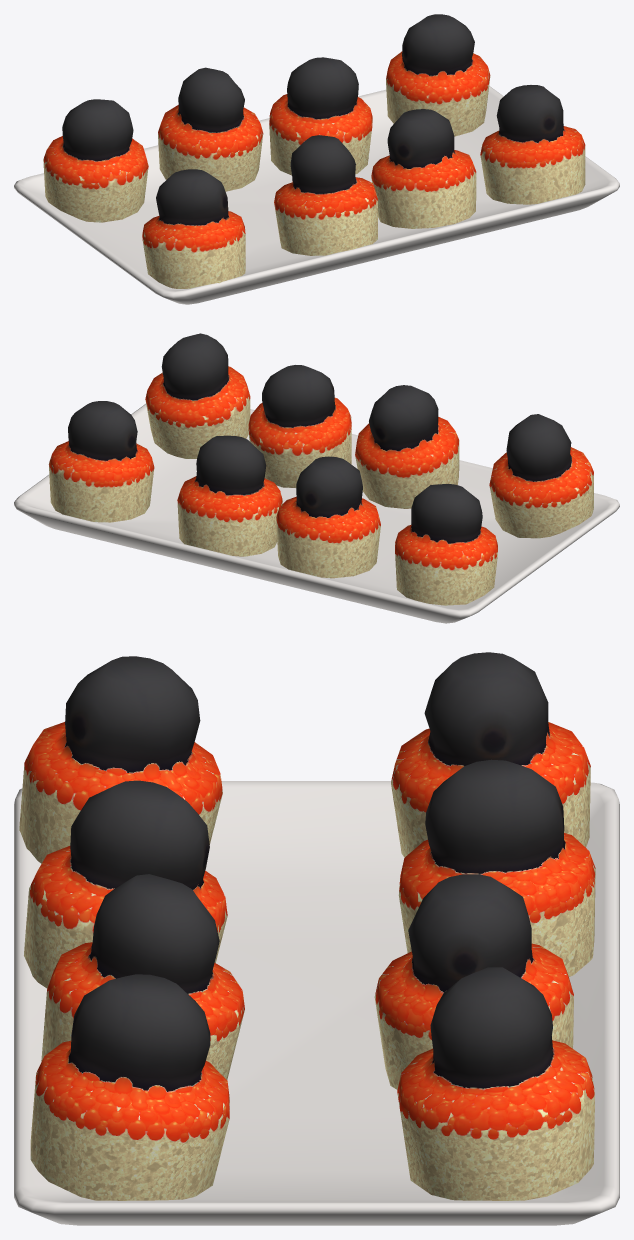
The model's file is BuffetSnacks03_2.FBX.
3 renders of one model, top to bottom at view 1: azimuth 30°, elevation 25°; view 2: azimuth 150°, elevation 25°; view 3: azimuth 270°, elevation 25°, orthographic. The views are drawn at different scales.
Visible parts, largest first — view 1: BuffetSnacks03_2; view 2: BuffetSnacks03_2; view 3: BuffetSnacks03_2.
Part boxes in pixels (x1,y1,x2,y2): BuffetSnacks03_2: (14, 14, 619, 304); BuffetSnacks03_2: (14, 333, 619, 623); BuffetSnacks03_2: (14, 652, 619, 1225).
Size of what is drawn, in the model's own units: 0.4959 by 0.1147 by 0.2973.
